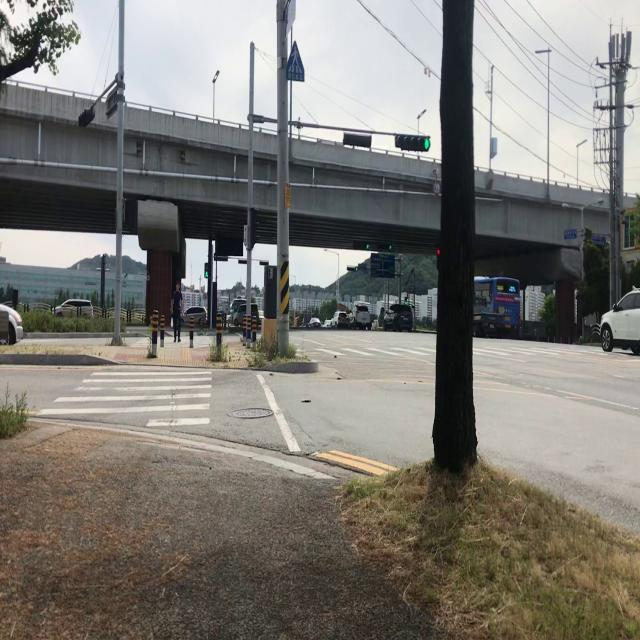초록불: (204, 261, 209, 282)
횡단보도: (32, 363, 214, 430), (305, 340, 603, 363)
